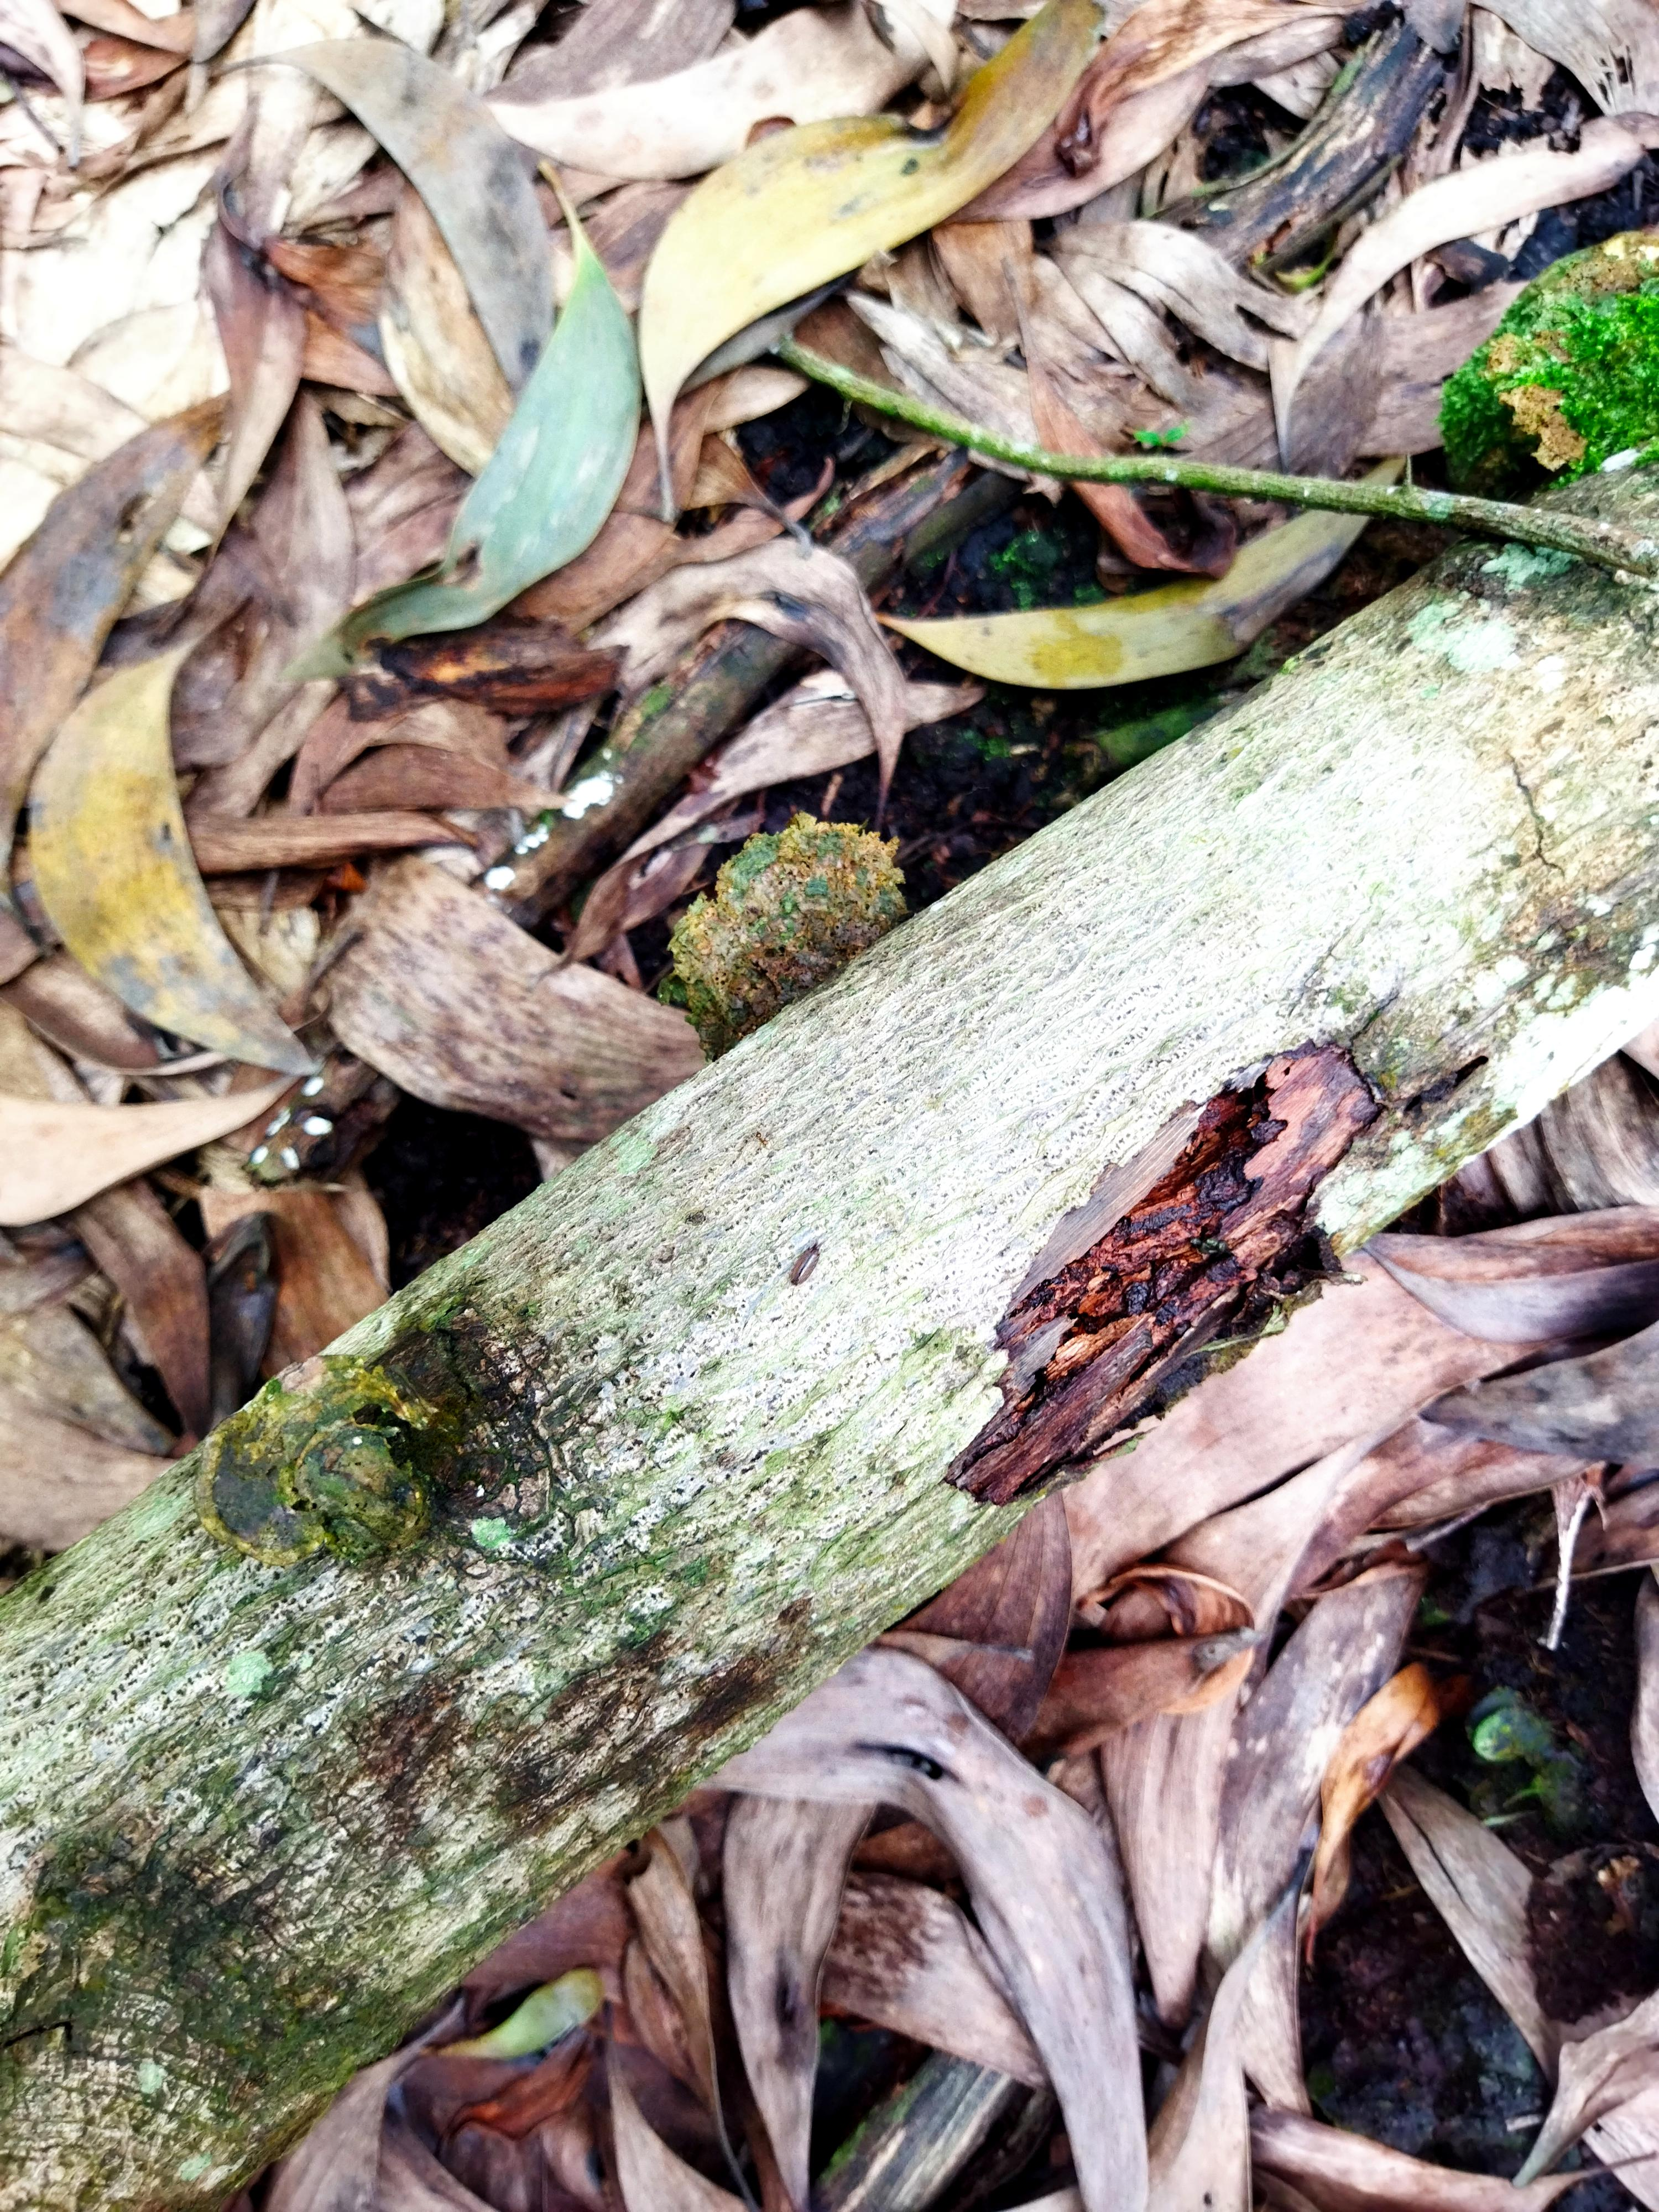Ganoderma - Fruit Body: (190, 1372, 436, 1571)
